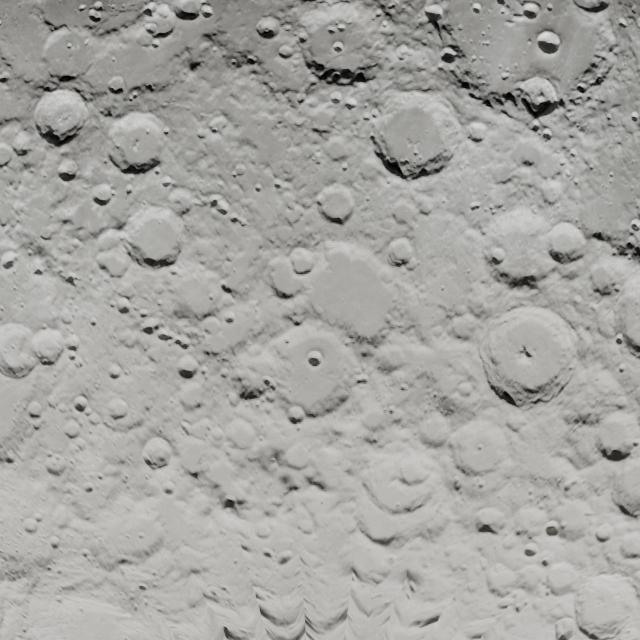crater: (476, 309, 584, 407), (355, 447, 443, 527), (482, 208, 564, 284), (445, 418, 514, 478), (572, 576, 634, 640), (122, 205, 183, 265), (40, 26, 96, 81), (33, 88, 88, 141), (200, 308, 257, 357), (611, 268, 640, 350), (255, 593, 305, 640), (0, 322, 39, 376), (587, 248, 632, 294), (268, 250, 312, 296), (595, 411, 638, 458), (610, 461, 640, 513), (316, 185, 355, 224), (142, 1, 178, 37), (416, 412, 454, 446), (223, 416, 259, 450), (546, 561, 582, 595), (141, 436, 173, 468), (177, 379, 209, 409), (386, 237, 415, 266), (360, 406, 390, 432), (290, 246, 316, 274), (389, 201, 418, 226), (168, 188, 196, 213), (404, 563, 430, 589), (322, 136, 350, 160), (539, 179, 564, 203), (176, 354, 200, 378), (536, 31, 561, 54), (255, 16, 280, 38), (208, 194, 231, 217), (106, 397, 129, 420), (11, 130, 32, 155), (57, 158, 79, 180), (135, 26, 159, 46), (92, 183, 114, 204), (140, 317, 163, 337), (0, 250, 20, 272), (45, 454, 67, 474), (62, 418, 82, 438), (208, 115, 228, 134), (439, 46, 459, 65), (107, 75, 126, 94), (521, 2, 541, 20), (467, 122, 487, 140), (595, 522, 614, 540), (0, 142, 14, 166), (306, 350, 324, 368), (287, 405, 305, 423), (26, 401, 44, 418), (254, 521, 272, 538), (65, 334, 81, 352), (88, 4, 104, 22), (73, 396, 89, 412), (115, 298, 131, 314), (22, 518, 38, 534), (490, 247, 506, 263), (107, 363, 122, 379), (523, 543, 539, 558), (222, 310, 236, 326), (278, 44, 294, 58), (200, 4, 214, 19), (234, 163, 247, 177), (329, 91, 343, 104), (160, 176, 173, 189), (498, 4, 511, 17), (468, 200, 482, 212), (344, 97, 358, 109), (48, 535, 60, 548), (0, 70, 11, 83), (471, 2, 482, 14), (542, 128, 553, 139), (273, 180, 283, 192), (500, 72, 510, 80), (634, 111, 640, 124), (634, 220, 640, 232)
rock: (223, 624, 250, 640), (239, 383, 263, 401), (278, 550, 294, 565), (188, 58, 203, 72), (222, 497, 238, 510), (478, 523, 496, 534), (330, 70, 344, 84), (354, 373, 368, 387), (144, 22, 158, 36), (61, 274, 77, 286), (545, 524, 559, 537), (332, 42, 344, 54), (245, 54, 258, 65), (576, 82, 588, 93), (326, 24, 336, 34), (5, 454, 15, 464), (84, 484, 94, 493), (254, 183, 263, 193), (337, 23, 347, 32), (615, 336, 624, 345), (138, 584, 147, 592), (618, 365, 626, 374), (546, 3, 554, 12), (66, 42, 73, 49), (608, 171, 614, 179)
